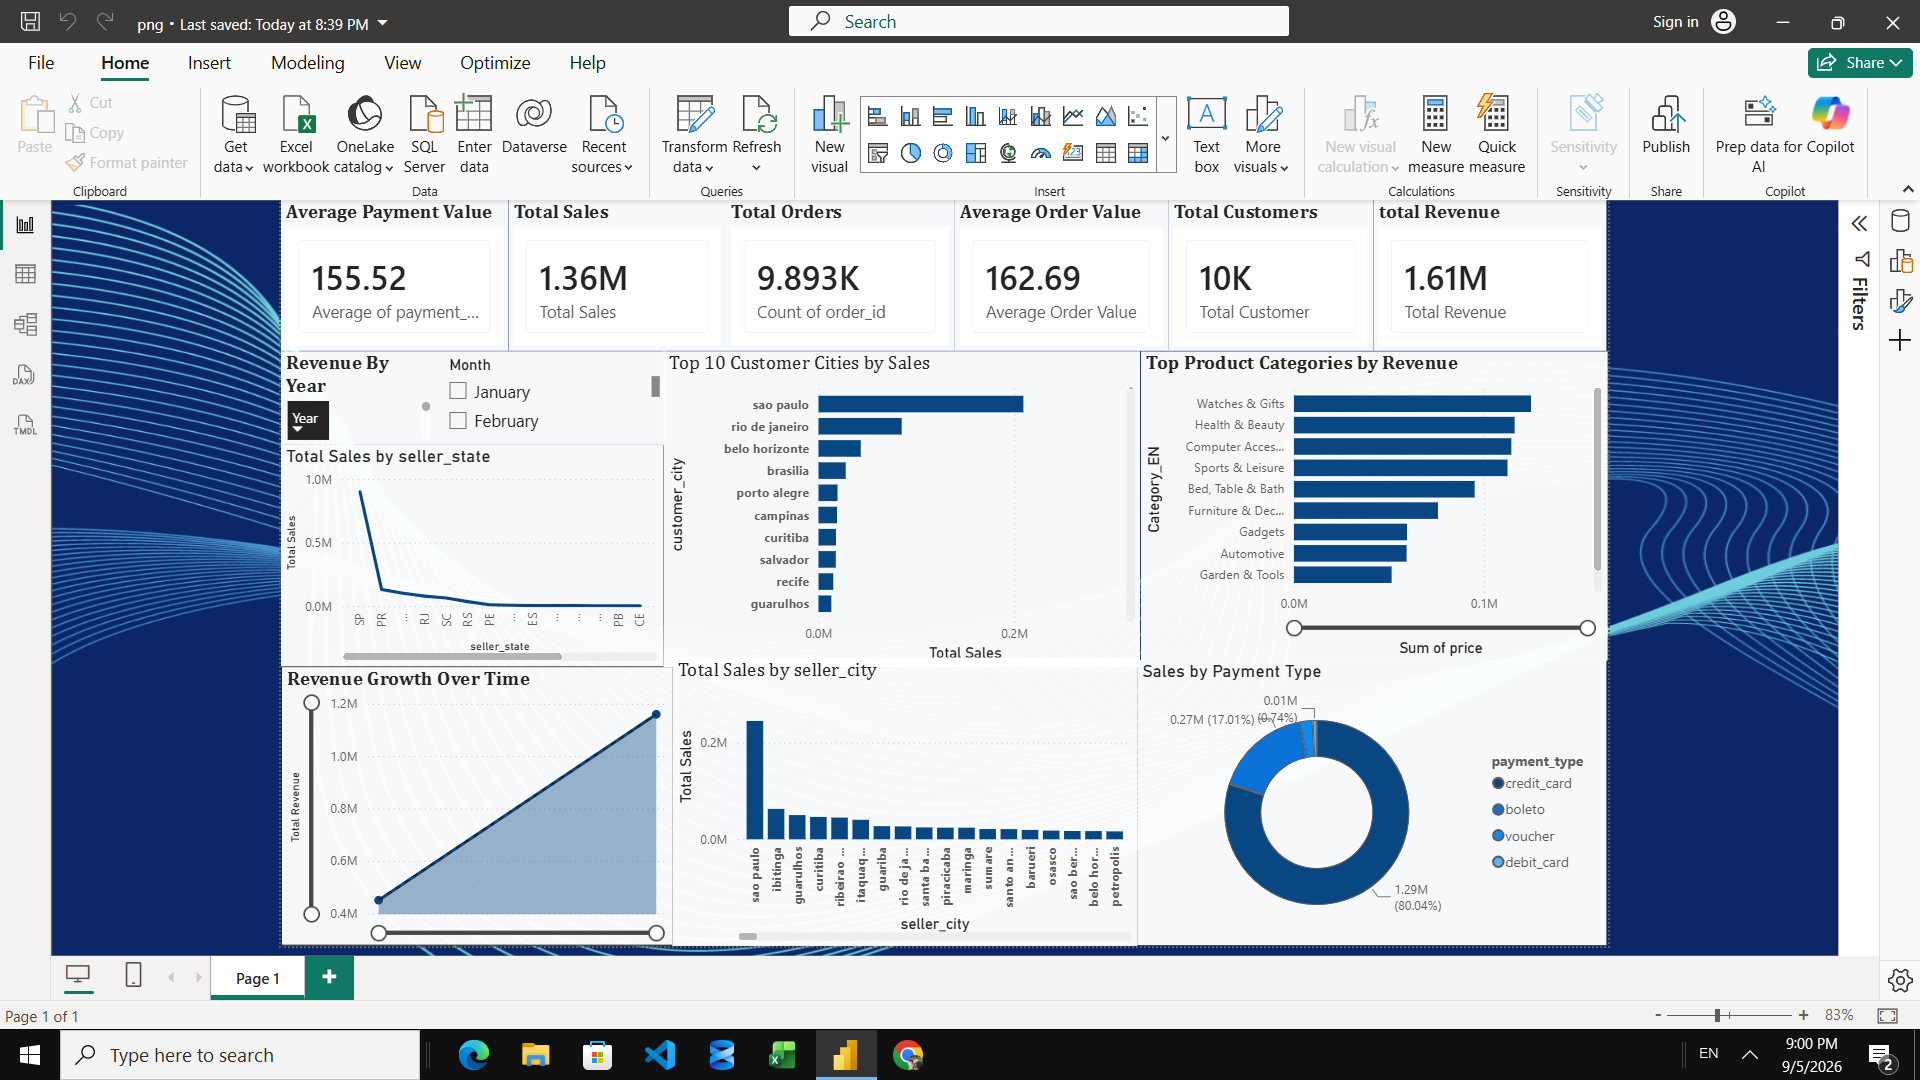

The page's visual inventory and layout, read from the dashboard file:
{"tool":"powerbi","page":{"name":"Page 1","canvas":[1280,720],"ordinal":0},"visuals":[{"type":"cardVisual","title":"total Revenue ","fields":{"Data":["olist_customers_dataset (2).Total Revenue"]},"box":[1054.7,0,225.1,145.7],"z":0},{"type":"cardVisual","title":"Total Orders","fields":{"Data":["Count(olist_orders_dataset (2).order_id)"]},"box":[429.9,0,220.7,145.7],"z":1000},{"type":"cardVisual","title":"Total Customers","fields":{"Data":["olist_customers_dataset (2).Total Customer"]},"box":[857,0,197.7,145.7],"z":2000},{"type":"tableEx","title":"Revenue By Year","fields":{"Values":["olist_orders_dataset (2).order_purchase_timestamp.Variation.Date Hierarchy.Year"]},"box":[0,145.9,149.5,90.8],"z":3000},{"type":"cardVisual","title":"Average Order Value","fields":{"Data":["olist_customers_dataset (2).Average Order Value"]},"box":[650.7,0,206.3,145.7],"z":4000},{"type":"barChart","title":"Top Product Categories by Revenue","fields":{"Y":["Sum(olist_order_items_dataset (2).price)"],"Category":["olist_products_dataset (2).Category_EN"]},"box":[829.6,145.7,450.1,298.7],"z":5000},{"type":"cardVisual","title":"Total Sales","fields":{"Data":["olist_customers_dataset (2).Total Sales"]},"box":[219.3,0,210.6,145.7],"z":6000},{"type":"lineChart","title":"Revenue Growth Over Time","fields":{"Category":["olist_orders_dataset (2).order_purchase_timestamp.Variation.Date Hierarchy.Year"],"Y":["olist_customers_dataset (2).Total Revenue"]},"box":[0,450.1,378,269.8],"z":7000},{"type":"donutChart","title":"Sales by Payment Type","fields":{"Category":["olist_order_payments_dataset (2).payment_type"],"Y":["olist_customers_dataset (2).Total Revenue"]},"box":[826.7,444.4,453,275.6],"z":8000},{"type":"clusteredBarChart","title":"Top 10 Customer Cities by Sales","fields":{"Category":["olist_customers_dataset (2).customer_city"],"Y":["olist_customers_dataset (2).Total Sales"]},"box":[369.3,145.7,460.2,304.4],"z":9000},{"type":"cardVisual","title":"Average Payment Value","fields":{"Data":["Avg(olist_order_payments_dataset (2).payment_value)"]},"box":[0,0,219.3,145.7],"z":10000},{"type":"columnChart","fields":{"Category":["olist_sellers_dataset (2).seller_city"],"Y":["olist_customers_dataset (2).Total Sales"]},"box":[378,441.5,448.7,278.5],"z":11000},{"type":"slicer","fields":{"Values":["olist_orders_dataset (2).order_purchase_timestamp.Variation.Date Hierarchy.Month"]},"box":[149.5,145.9,220.7,90.8],"z":12000},{"type":"lineChart","fields":{"Category":["olist_sellers_dataset (2).seller_state"],"Y":["olist_customers_dataset (2).Total Sales"]},"box":[0,236.7,368.4,213.6],"z":13000}]}

Visuals, with their boxes on the page's 1280x720 design canvas (x1, y1, x2, y2). These are canvas units, not pixel positions in the 1920x1080 screenshot, which may show the page scaled, cropped or inside an application window:
"total Revenue " cardVisual: [1055, 0, 1280, 146]
"Total Orders" cardVisual: [430, 0, 651, 146]
"Total Customers" cardVisual: [857, 0, 1055, 146]
"Revenue By Year" tableEx: [0, 146, 150, 237]
"Average Order Value" cardVisual: [651, 0, 857, 146]
"Top Product Categories by Revenue" barChart: [830, 146, 1280, 444]
"Total Sales" cardVisual: [219, 0, 430, 146]
"Revenue Growth Over Time" lineChart: [0, 450, 378, 720]
"Sales by Payment Type" donutChart: [827, 444, 1280, 720]
"Top 10 Customer Cities by Sales" clusteredBarChart: [369, 146, 830, 450]
"Average Payment Value" cardVisual: [0, 0, 219, 146]
columnChart - olist_sellers_dataset (2).seller_city x olist_customers_dataset (2).Total Sales: [378, 442, 827, 720]
slicer - olist_orders_dataset (2).order_purchase_timestamp.Variation.Date Hierarchy.Month: [150, 146, 370, 237]
lineChart - olist_sellers_dataset (2).seller_state x olist_customers_dataset (2).Total Sales: [0, 237, 368, 450]
